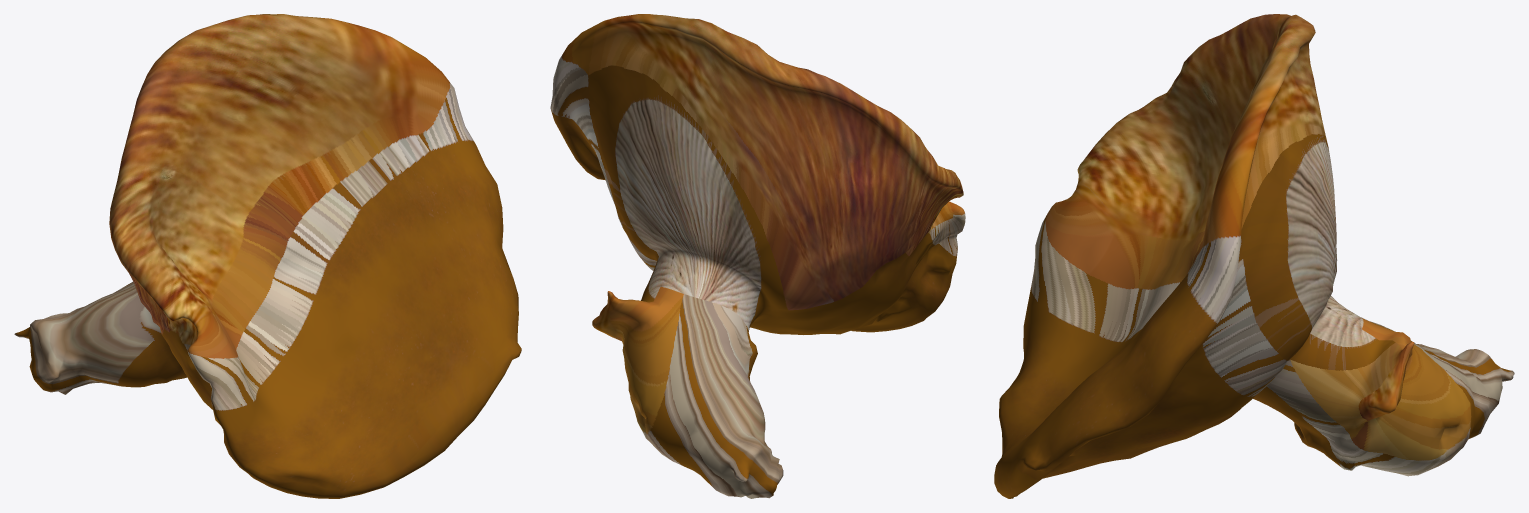
3 renders of one model, left to right at view 1: azimuth 30°, elevation 25°; view 2: azimuth 150°, elevation 25°; view 3: azimuth 270°, elevation 25°, orthographic. The views are drawn at different scales.
Size of the model in its own units: 0.9876 by 0.9831 by 1.
